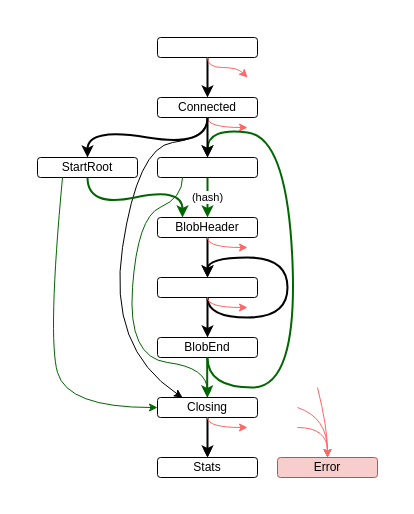
Image size: 414x514. Some labels were removed from this diagram. Here are the shapes that lost their labels. From the top down, the centre of each, then its label:
(x=207, y=47): Initial
(x=207, y=167): StartChild
(x=207, y=287): BlobContent
